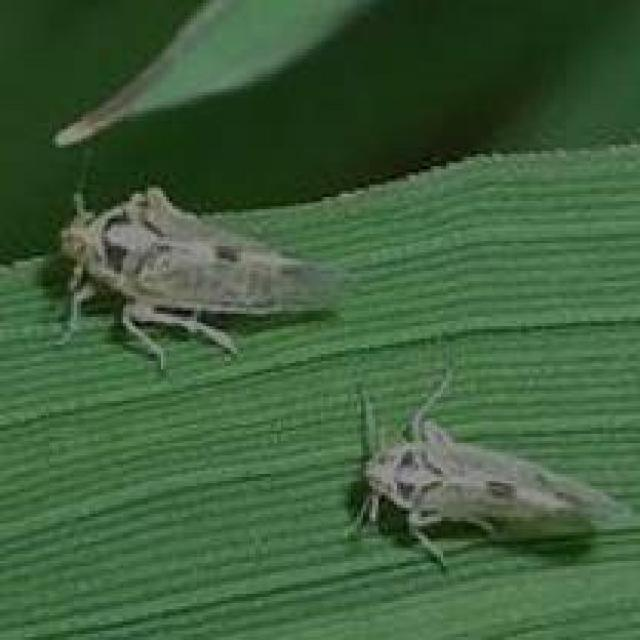brown-planthopper: (62, 186, 343, 326), (357, 426, 628, 543)
